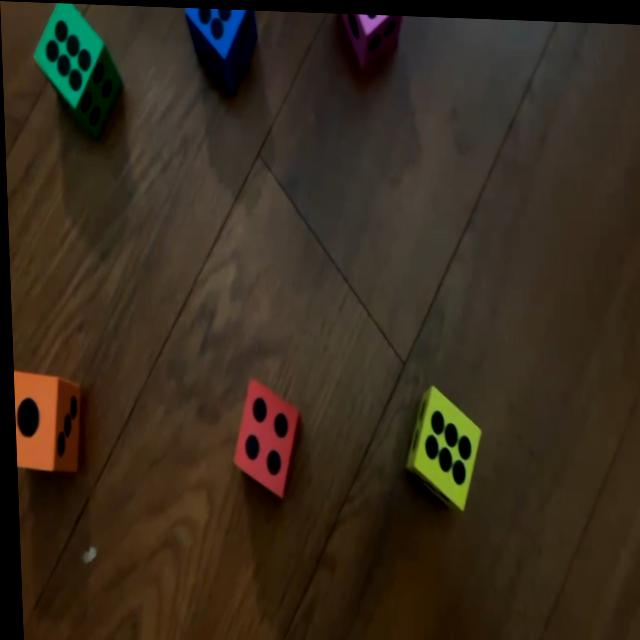cube: (32, 1, 123, 134), (228, 375, 298, 496), (184, 5, 258, 87)
